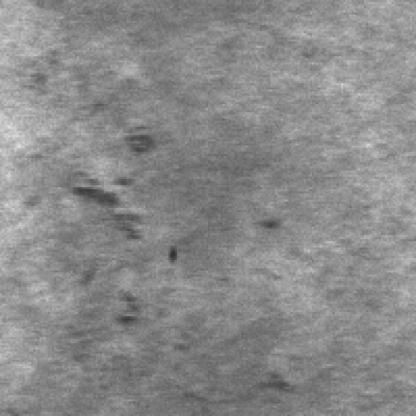rolled-in_scale: (62, 121, 152, 333)
